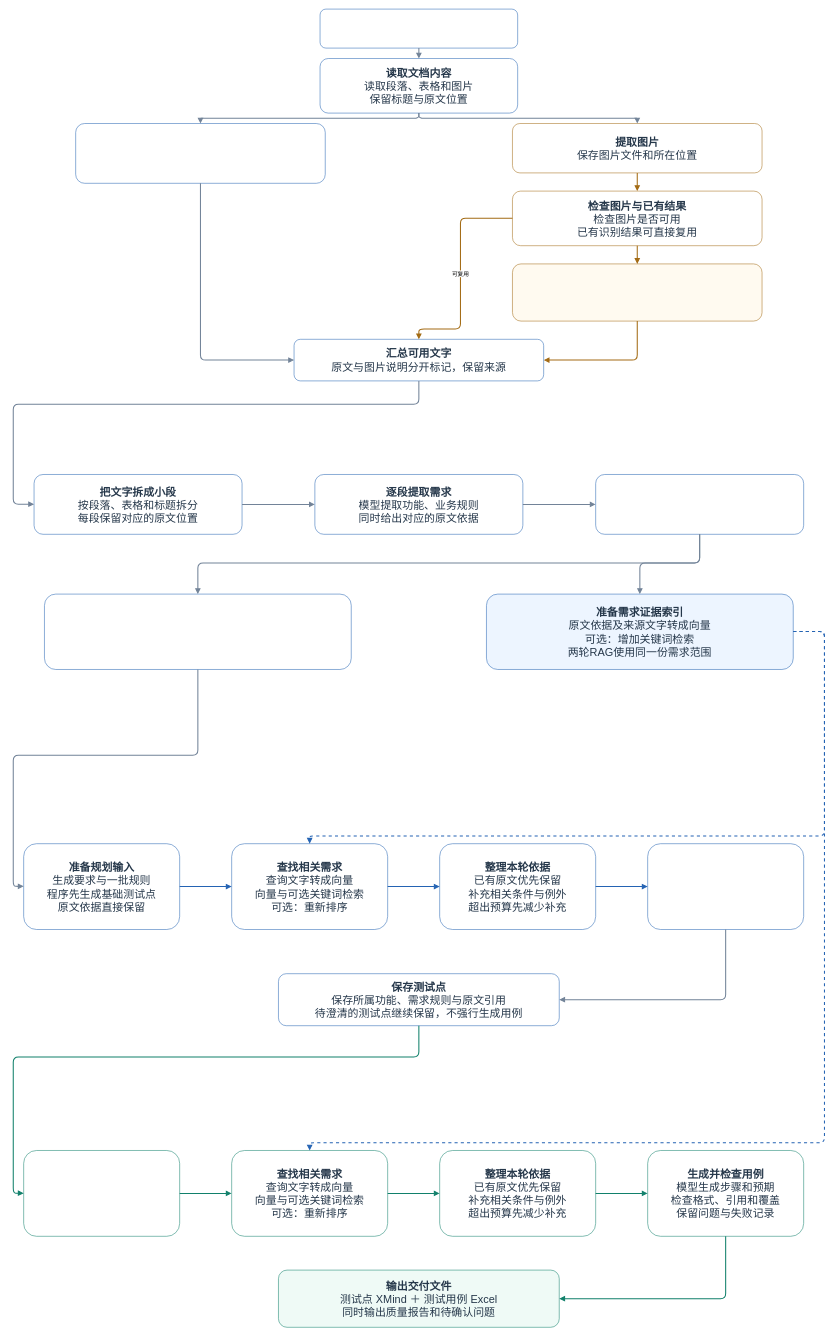
Image size: 838x1336. Some labels were removed from this diagram. Each missing label, with the centre of its shape:
保留正文与表格 正文保留原句 表格保留行列关系和原文位置: (x=200, y=153)
准备用例输入 选出可生成的测试点 补齐所属功能的规则 保留原文依据: (x=101, y=1193)
功能与需求规则 保存功能、规则和原文依据 供后续规划与生成使用 不会直接把规则当成完整测试用例: (x=197, y=632)
图片转文字与复核 按配置缩放或分图后识别 说明图片内容，可再复核并记录疑问: (x=637, y=292)
核对并整理结果 检查引文及对象关联 归并重复，记录冲突和缺失: (x=699, y=504)
生成测试点 保留已有基础测试点 模型补充测试目标 每点关联需求规则: (x=725, y=886)
输入需求文档 PDF / DOCX ＋ 本次生成要求: (x=419, y=28)
